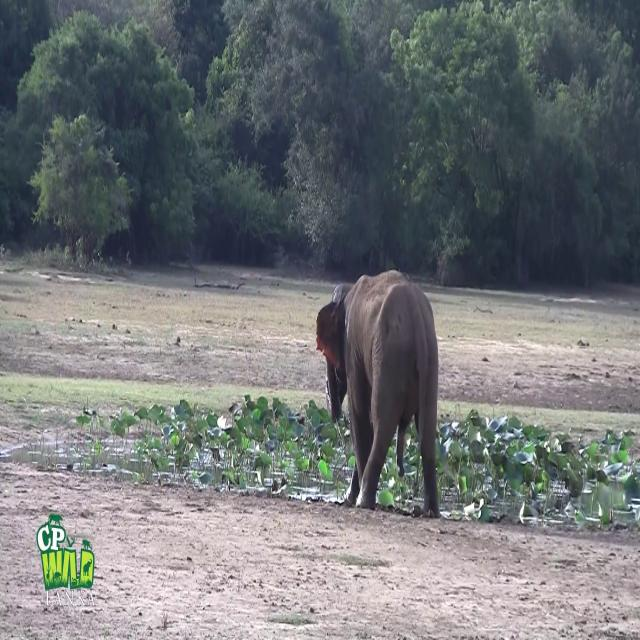Elephant: (316, 268, 441, 518)
